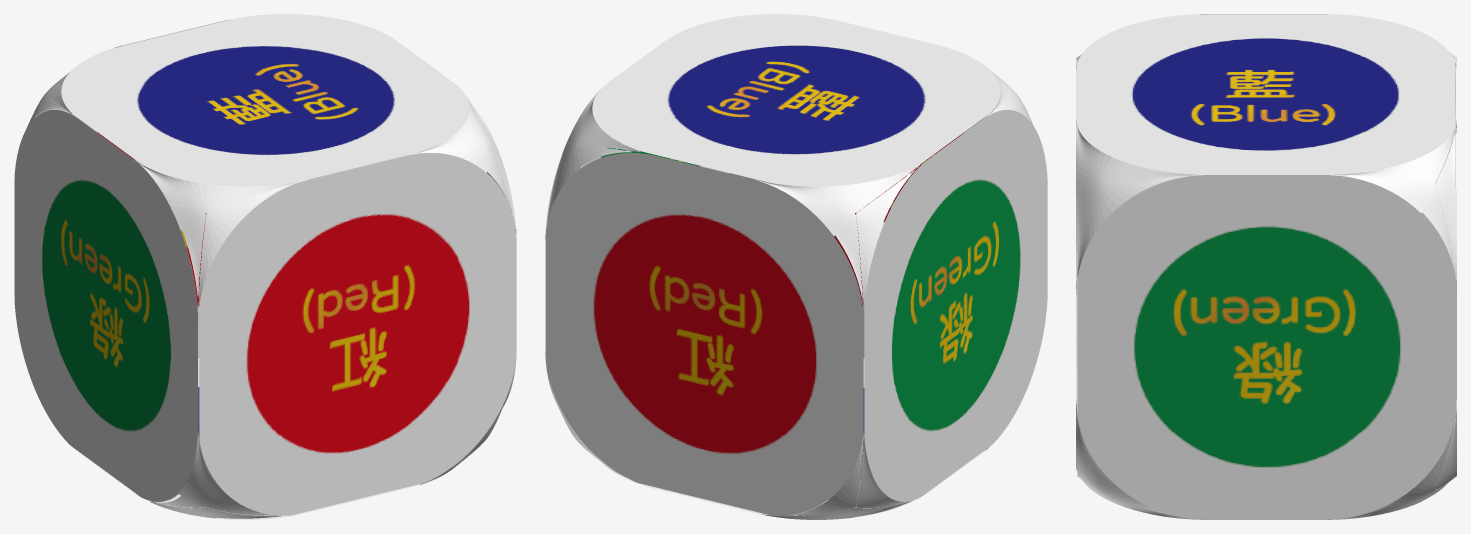
Rendered from -二次色骰.obj.
The picture shows the model from 3 angles, left to right: view 1: azimuth 30°, elevation 25°; view 2: azimuth 150°, elevation 25°; view 3: azimuth 270°, elevation 25°; orthographic projection. The views are drawn at different scales.
Parts seen in each view (by area): view 1: Cube; view 2: Cube; view 3: Cube.
Boxes of the visible parts, left/top/right/bottom form: Cube: left=14, top=14, right=516, bottom=519; Cube: left=545, top=14, right=1047, bottom=519; Cube: left=1076, top=14, right=1456, bottom=519.
Bounding box in the file's own units: 2 × 2 × 2.
1 material, 1 textured.
